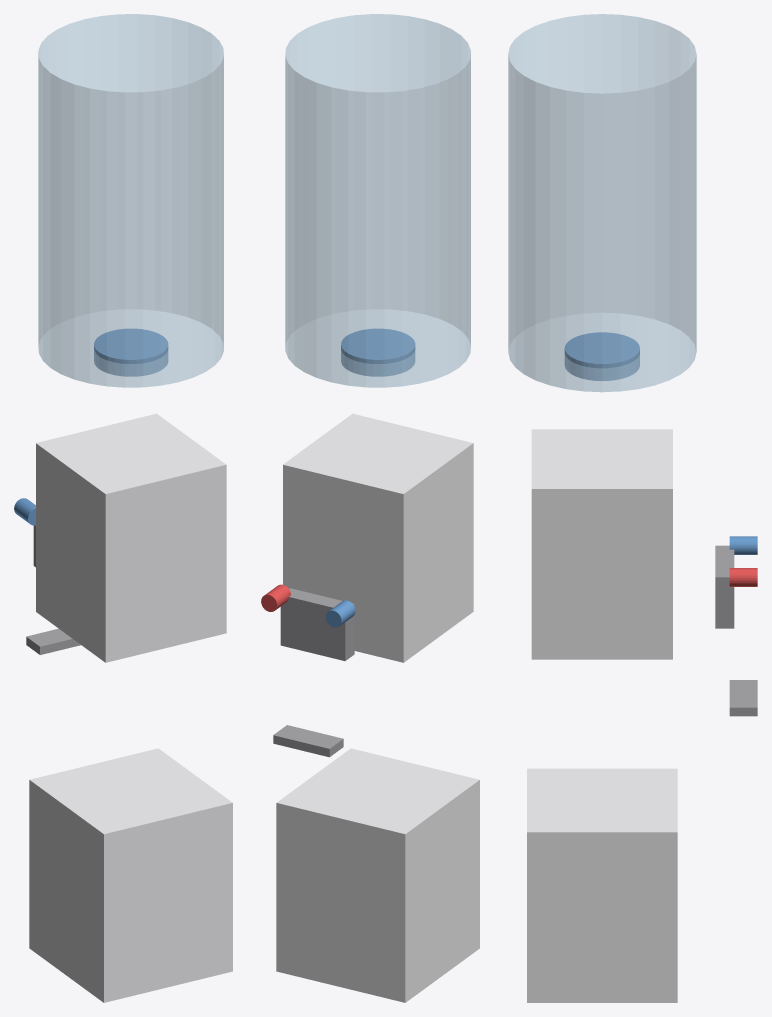
Rendered from watercooler.glb.
3 views of the same model, side by side, from view 1: azimuth 30°, elevation 25°; view 2: azimuth 150°, elevation 25°; view 3: azimuth 270°, elevation 25° (orthographic).
Parts seen in each view (by area): view 1: WaterCooler; view 2: WaterCooler; view 3: WaterCooler.
Part boxes in pixels (x1,y1,x2,y2): WaterCooler: [14, 14, 232, 1002]; WaterCooler: [261, 14, 479, 1002]; WaterCooler: [508, 14, 757, 1002].
Bounding box in the file's own units: 0.2 × 1.08 × 0.265.
